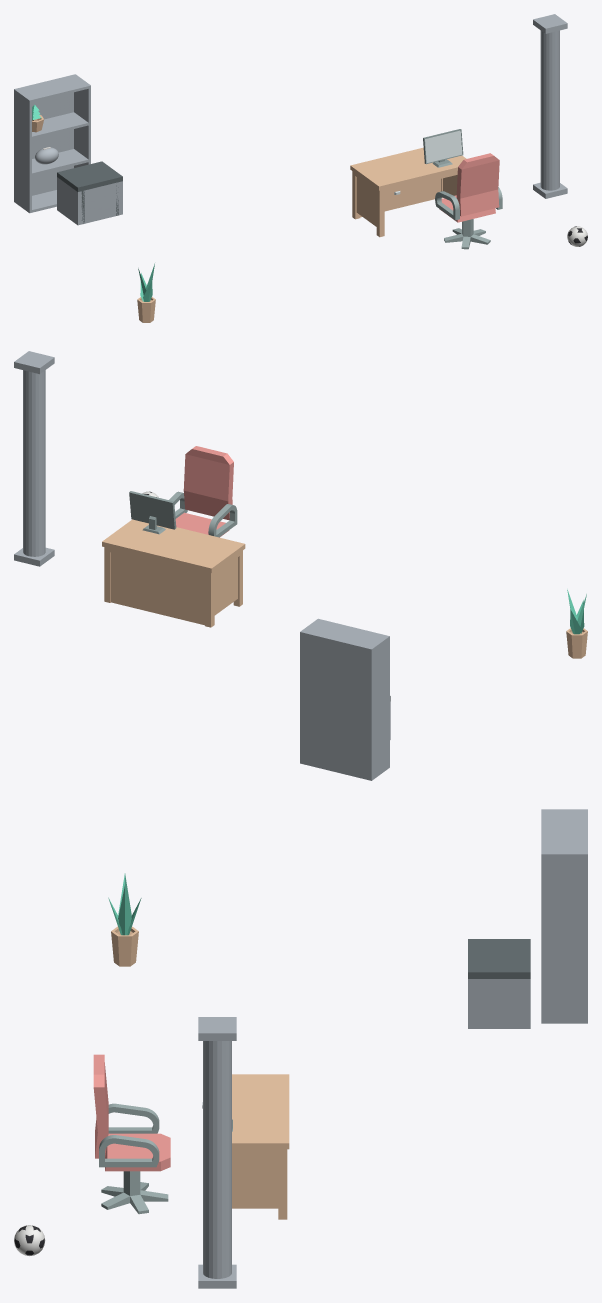
The picture shows the model from 3 angles, top to bottom: view 1: azimuth 30°, elevation 25°; view 2: azimuth 150°, elevation 25°; view 3: azimuth 270°, elevation 25°; orthographic projection. The views are drawn at different scales.
Visible parts, largest first — view 1: desk_blue__desk(Clone), column_cyan__column_cyan shaft, deskchair_black__chair, crate_red__crate_red shell, shelf_orange__shelf_orange back, shelf_orange__shelf_orange side_l, crate_red__crate_red lid, monitor_gray__computerScreen(Clone), shelf_orange__shelf_orange side_r, shelf_orange__shelf_orange board3, shelf_orange__shelf_orange board2, shelf_orange__shelf_orange board1 (+3 smaller); view 2: desk_blue__desk(Clone), shelf_orange__shelf_orange back, deskchair_black__chair, column_cyan__column_cyan shaft, shelf_orange__shelf_orange side_l, monitor_gray__computerScreen(Clone), shelf_orange__shelf_orange board3, column_cyan__column_cyan capital; view 3: shelf_orange__shelf_orange side_r, desk_blue__desk(Clone), column_cyan__column_cyan shaft, deskchair_black__chair, crate_red__crate_red shell, crate_red__crate_red lid, shelf_orange__shelf_orange board3, deskchair_black__chairDesk(Clone), column_cyan__column_cyan capital, plant_pink__pottedPlant(Clone), soccer_white__soccer_white, plant_pink__plant.
Boxes of the visible parts, x1,y1,x2,y2 form: desk_blue__desk(Clone): [350, 147, 466, 237]; column_cyan__column_cyan shaft: [540, 30, 559, 190]; deskchair_black__chair: [435, 153, 502, 222]; crate_red__crate_red shell: [57, 177, 122, 225]; shelf_orange__shelf_orange back: [16, 75, 73, 195]; shelf_orange__shelf_orange side_l: [14, 88, 31, 213]; crate_red__crate_red lid: [57, 161, 122, 191]; monitor_gray__computerScreen(Clone): [423, 129, 463, 167]; shelf_orange__shelf_orange side_r: [73, 74, 90, 167]; shelf_orange__shelf_orange board3: [18, 75, 88, 102]; shelf_orange__shelf_orange board2: [32, 112, 88, 139]; shelf_orange__shelf_orange board1: [32, 149, 88, 175]; desk_blue__desk(Clone): [102, 519, 245, 627]; shelf_orange__shelf_orange back: [302, 632, 369, 780]; deskchair_black__chair: [169, 446, 237, 537]; column_cyan__column_cyan shaft: [23, 370, 45, 556]; shelf_orange__shelf_orange side_l: [369, 635, 389, 780]; monitor_gray__computerScreen(Clone): [129, 491, 176, 534]; shelf_orange__shelf_orange board3: [304, 619, 386, 647]; column_cyan__column_cyan capital: [14, 351, 54, 374]; shelf_orange__shelf_orange side_r: [541, 852, 587, 1023]; desk_blue__desk(Clone): [232, 1074, 289, 1219]; column_cyan__column_cyan shaft: [203, 1041, 231, 1278]; deskchair_black__chair: [93, 1054, 170, 1171]; crate_red__crate_red shell: [468, 979, 530, 1028]; crate_red__crate_red lid: [468, 939, 530, 978]; shelf_orange__shelf_orange board3: [541, 811, 584, 852]; deskchair_black__chairDesk(Clone): [101, 1171, 168, 1214]; column_cyan__column_cyan capital: [198, 1017, 236, 1040]; plant_pink__pottedPlant(Clone): [111, 926, 138, 966]; soccer_white__soccer_white: [14, 1225, 45, 1256]; plant_pink__plant: [108, 873, 141, 935].
Size of the model in its own units: 5.53 by 1.98 by 4.03.
